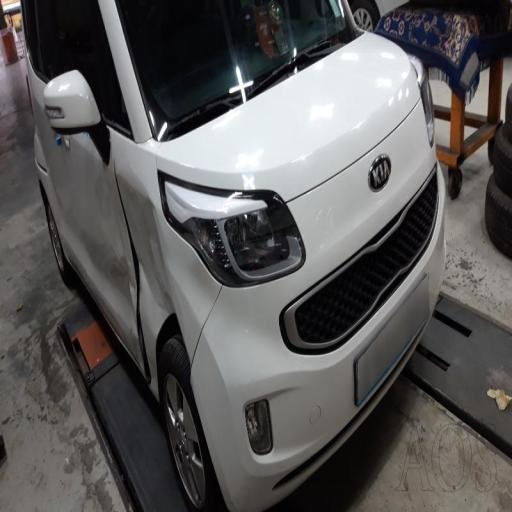broken: (85, 148, 209, 365)
